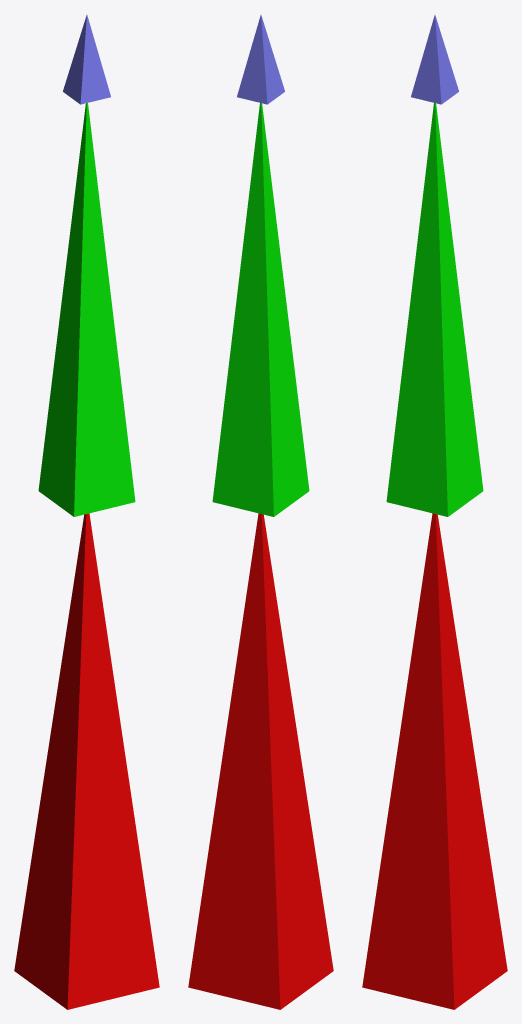
File: simple.dae
3 renders of one model, left to right at view 1: azimuth 30°, elevation 25°; view 2: azimuth 150°, elevation 25°; view 3: azimuth 330°, elevation 25°, orthographic.
Parts seen in each view (by area): view 1: Product, Product2, Product3; view 2: Product, Product2, Product3; view 3: Product, Product2, Product3.
Part boxes in pixels (<box>): Product: <box>14,513,159,1009</box>; Product2: <box>38,103,135,516</box>; Product3: <box>63,15,110,104</box>; Product: <box>188,513,333,1009</box>; Product2: <box>212,103,309,516</box>; Product3: <box>237,15,284,104</box>; Product: <box>362,513,507,1009</box>; Product2: <box>386,103,483,516</box>; Product3: <box>411,15,458,104</box>.
Size of the model in its own units: 6000 by 6000 by 60000.
